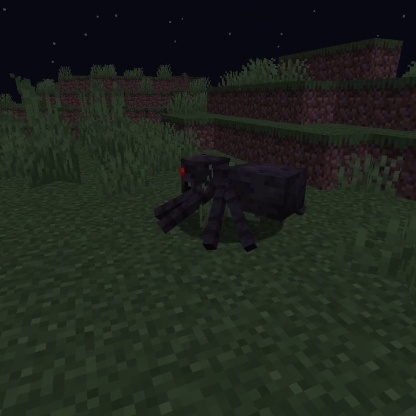spider: (151, 150, 313, 257)
